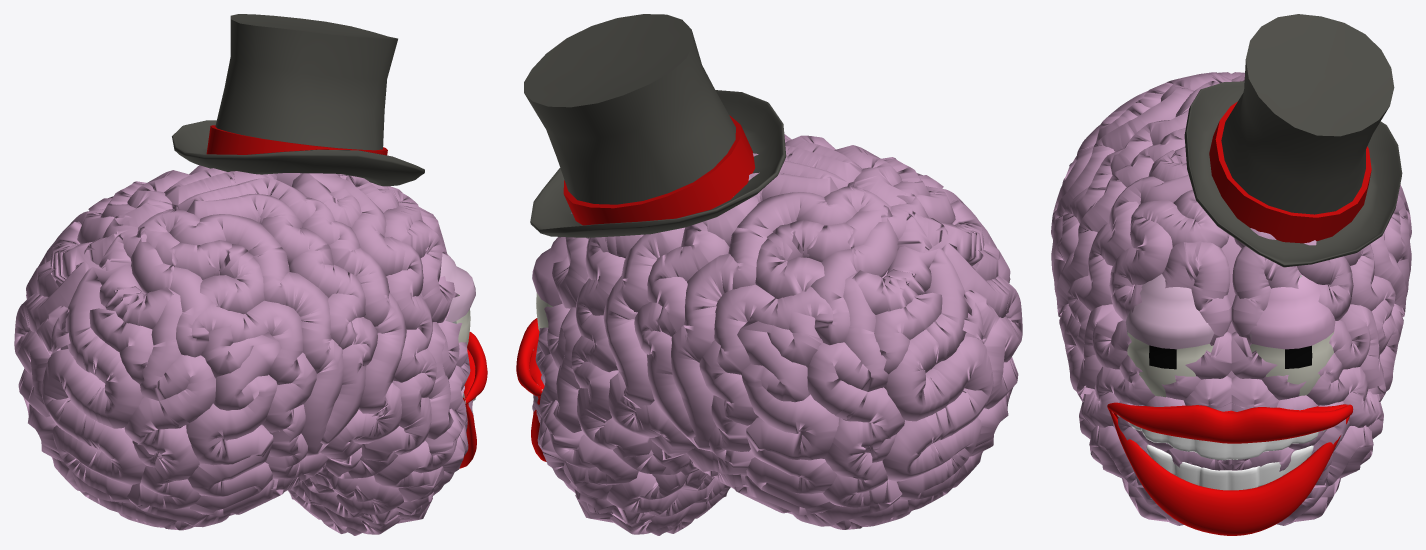
File: brainwithhat.fbx
3 renders of one model, left to right at view 1: azimuth 30°, elevation 25°; view 2: azimuth 150°, elevation 25°; view 3: azimuth 270°, elevation 25°, orthographic. The views are drawn at different scales.
Visible parts, largest first — view 1: pSphere2, TopHat_pCylinder3, pasted__pSphere3, mouth_3_woman.1; view 2: pSphere2, TopHat_pCylinder3, mouth_3_woman.1, pSphere3; view 3: pSphere2, TopHat_pCylinder3, mouth_3_woman.1, pasted__pSphere3, pSphere3.
Boxes of the visible parts, left/top/right/bottom form: pSphere2: left=14, top=165, right=473, bottom=535; TopHat_pCylinder3: left=172, top=14, right=424, bottom=186; pasted__pSphere3: left=440, top=253, right=475, bottom=346; mouth_3_woman.1: left=459, top=332, right=487, bottom=468; pSphere2: left=532, top=134, right=1022, bottom=535; TopHat_pCylinder3: left=524, top=14, right=786, bottom=237; mouth_3_woman.1: left=516, top=318, right=546, bottom=461; pSphere3: left=532, top=237, right=567, bottom=330; pSphere2: left=1051, top=72, right=1411, bottom=535; TopHat_pCylinder3: left=1184, top=14, right=1402, bottom=267; mouth_3_woman.1: left=1107, top=402, right=1353, bottom=535; pasted__pSphere3: left=1125, top=274, right=1214, bottom=397; pSphere3: left=1249, top=274, right=1335, bottom=395.
Size of the model in its own units: 4.94 by 5.45 by 3.64.
